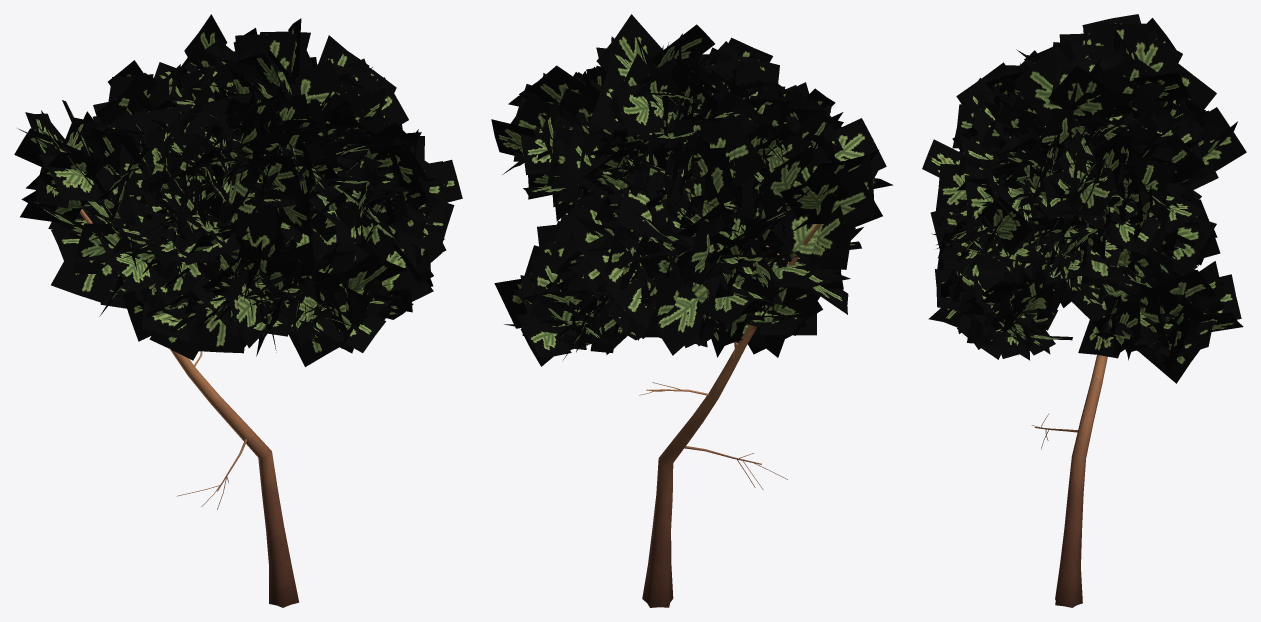
File: borovice_stredni.glb
3 renders of one model, left to right at view 1: azimuth 30°, elevation 25°; view 2: azimuth 150°, elevation 25°; view 3: azimuth 270°, elevation 25°, orthographic. The views are drawn at different scales.
Parts seen in each view (by area): view 1: borovice_stredni; view 2: borovice_stredni; view 3: borovice_stredni.
Boxes of the visible parts, x1,y1,x2,y2 form: borovice_stredni: (14, 14, 462, 607); borovice_stredni: (491, 14, 893, 607); borovice_stredni: (922, 14, 1246, 607).
Size of the model in its own units: 8.92 by 13.41 by 7.19.
Materials: 2 (2 with a texture image).
